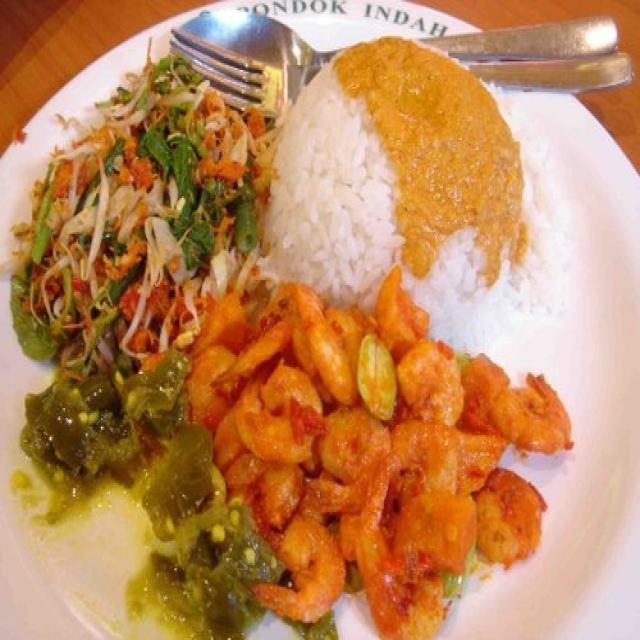米饭主食: (13, 10, 619, 628)
